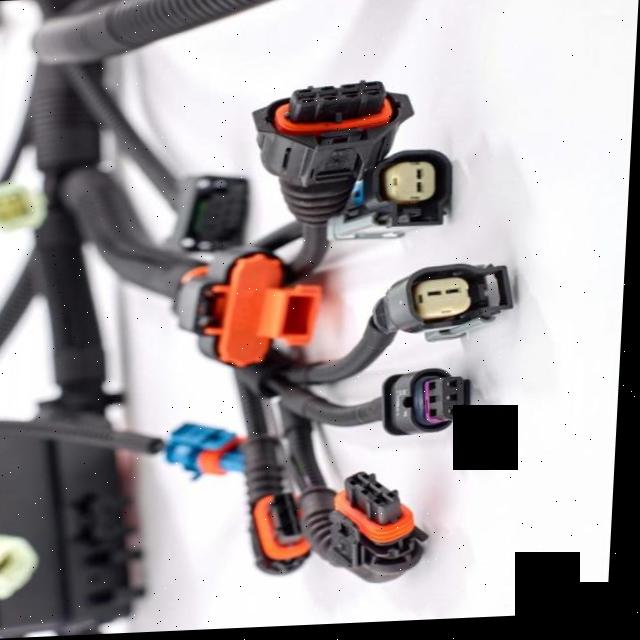connector: (166, 229, 349, 387), (252, 79, 424, 201), (309, 464, 454, 604), (363, 251, 530, 361), (324, 147, 463, 250), (162, 418, 257, 490), (251, 489, 322, 583)
